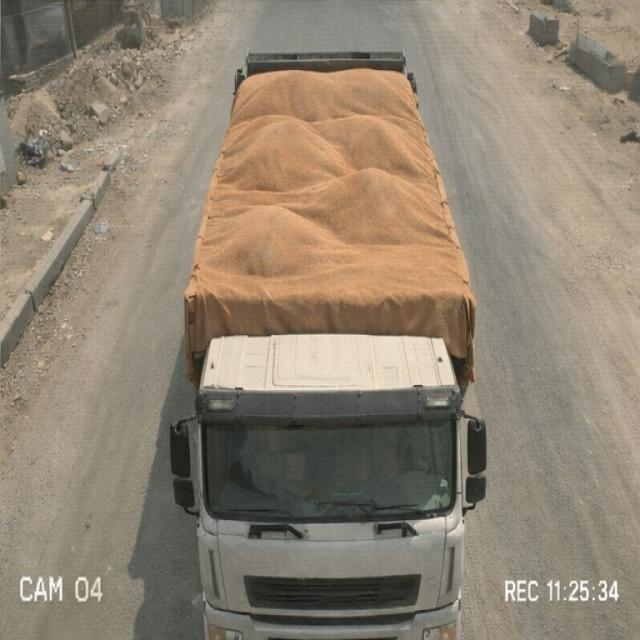trailer: (181, 49, 478, 298)
truck: (162, 21, 498, 640)
